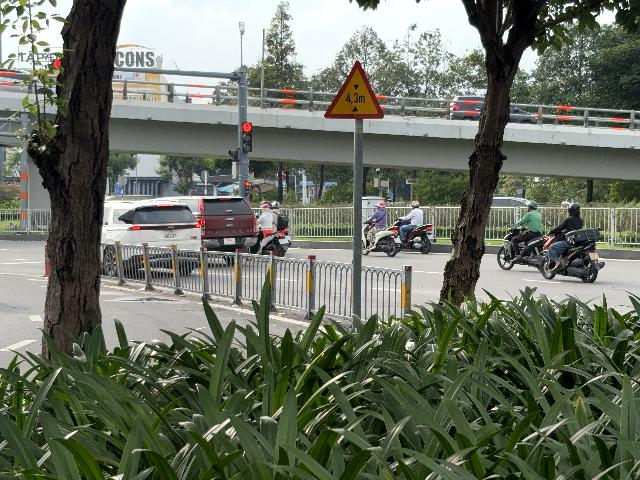chieu-cao-tinh-khong-thuc-te: (323, 60, 385, 119)
